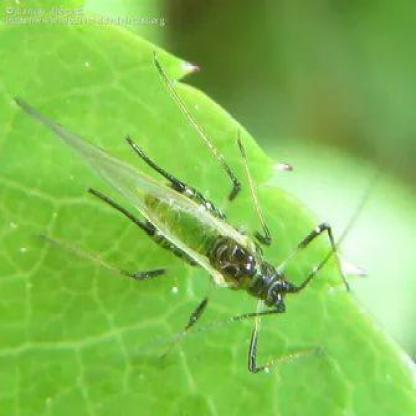aphid: (13, 73, 343, 380)
